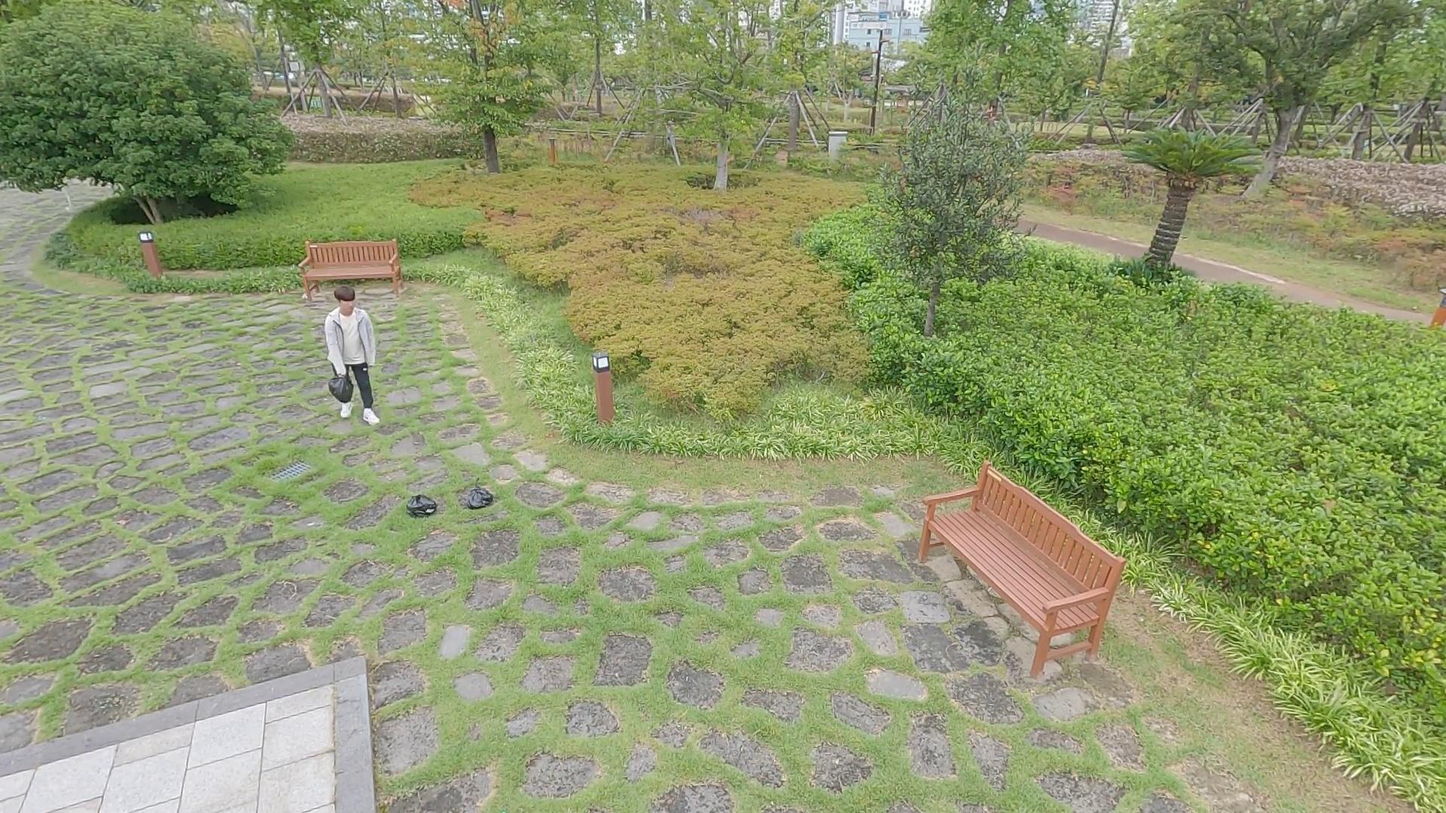person: (325, 285, 380, 433)
trash: (400, 489, 442, 521), (463, 476, 497, 513), (327, 370, 355, 406)
